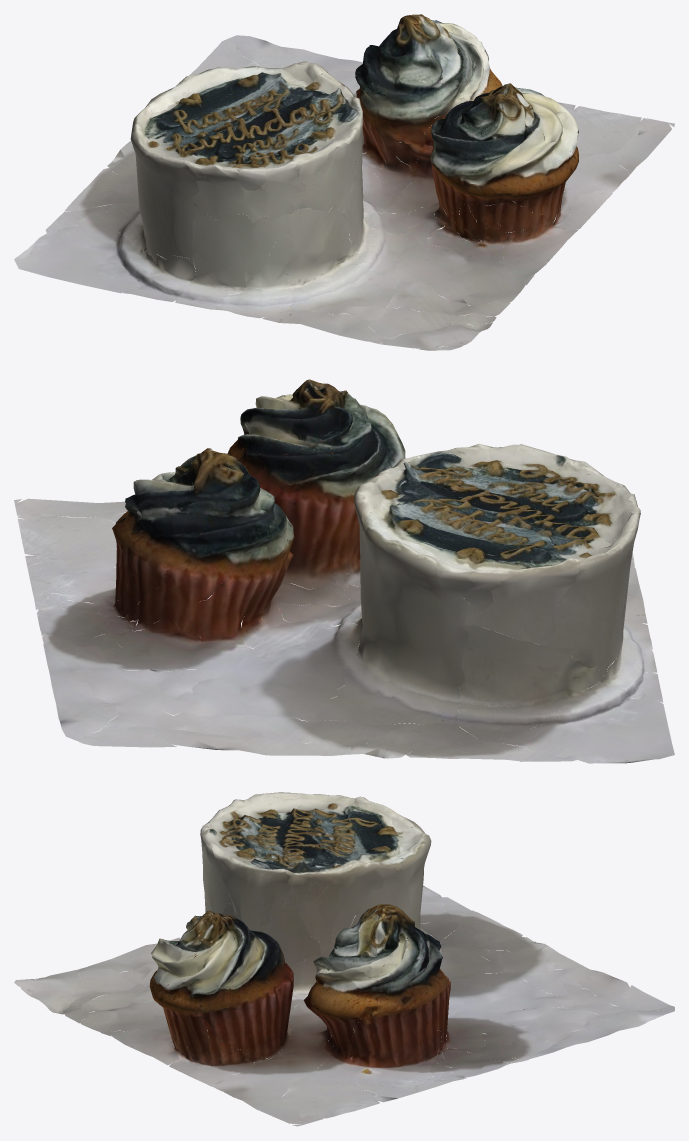
File: asset.glb
The picture shows the model from 3 angles, top to bottom: view 1: azimuth 30°, elevation 25°; view 2: azimuth 150°, elevation 25°; view 3: azimuth 270°, elevation 25°; orthographic projection. The views are drawn at different scales.
Parts seen in each view (by area): view 1: Mesh_0; view 2: Mesh_0; view 3: Mesh_0.
Boxes of the visible parts, x1,y1,x2,y2 form: Mesh_0: (14, 14, 674, 350); Mesh_0: (14, 379, 674, 763); Mesh_0: (14, 792, 674, 1126).
Bounding box in the file's own units: 1.53 × 0.3949 × 1.51.
1 material, 1 textured.
